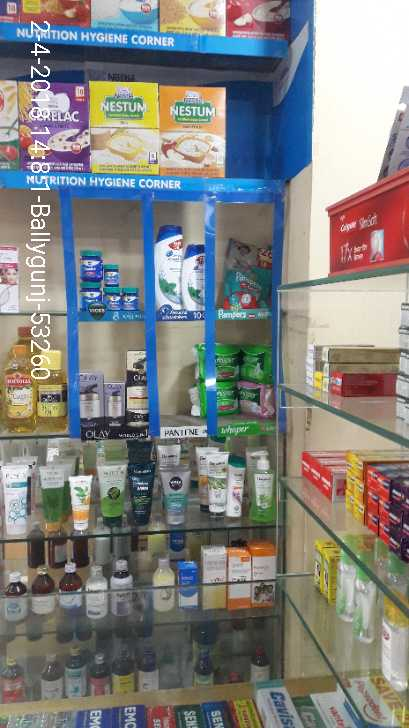vicks: (69, 241, 140, 311)
